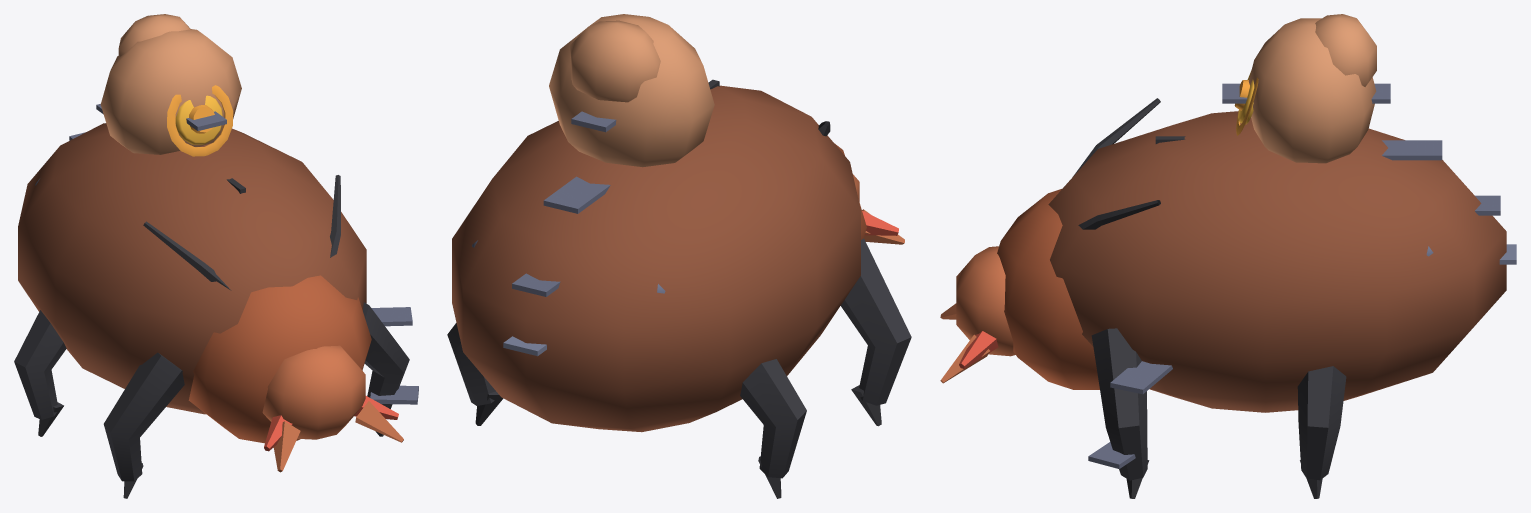
Rendered from husk_beetle.glb.
The picture shows the model from 3 angles, left to right: view 1: azimuth 30°, elevation 25°; view 2: azimuth 150°, elevation 25°; view 3: azimuth 270°, elevation 25°; orthographic projection. The views are drawn at different scales.
Parts seen in each view (by area): view 1: HuskBeetle; view 2: HuskBeetle; view 3: HuskBeetle.
Boxes of the visible parts, left/top/right/bottom form: HuskBeetle: left=14, top=14, right=418, bottom=498; HuskBeetle: left=447, top=14, right=911, bottom=498; HuskBeetle: left=940, top=14, right=1516, bottom=498.
Bounding box in the file's own units: 2.56 × 3 × 3.79.
Materials: 1 (1 with a texture image).
